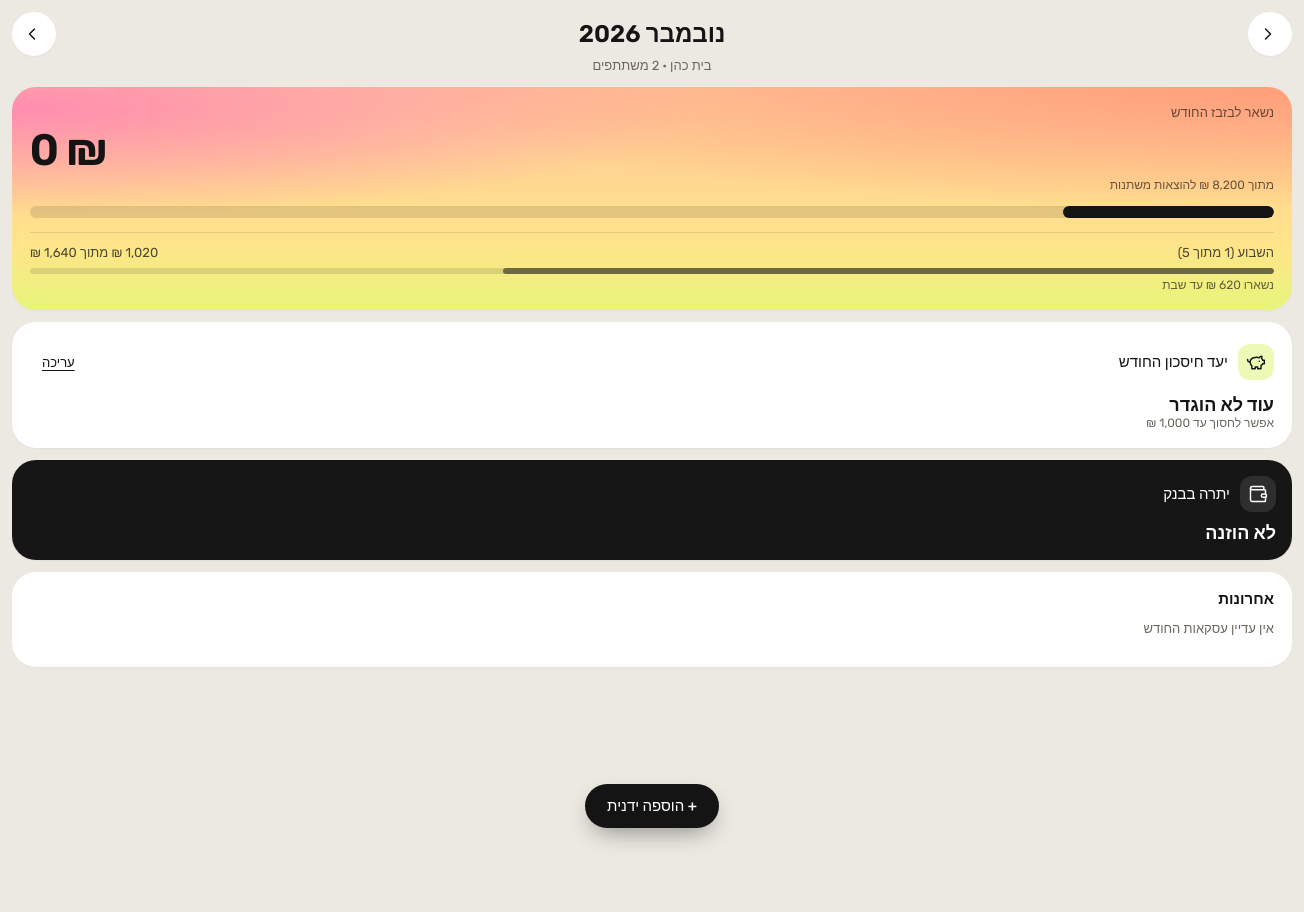
Test case: a savings goal above the most that can be saved is refused
The width and height of the screenshot is (1304, 912).
Click the button with aria-label "עריכת יעד החיסכון" at (58, 362), box [30, 340, 87, 384]
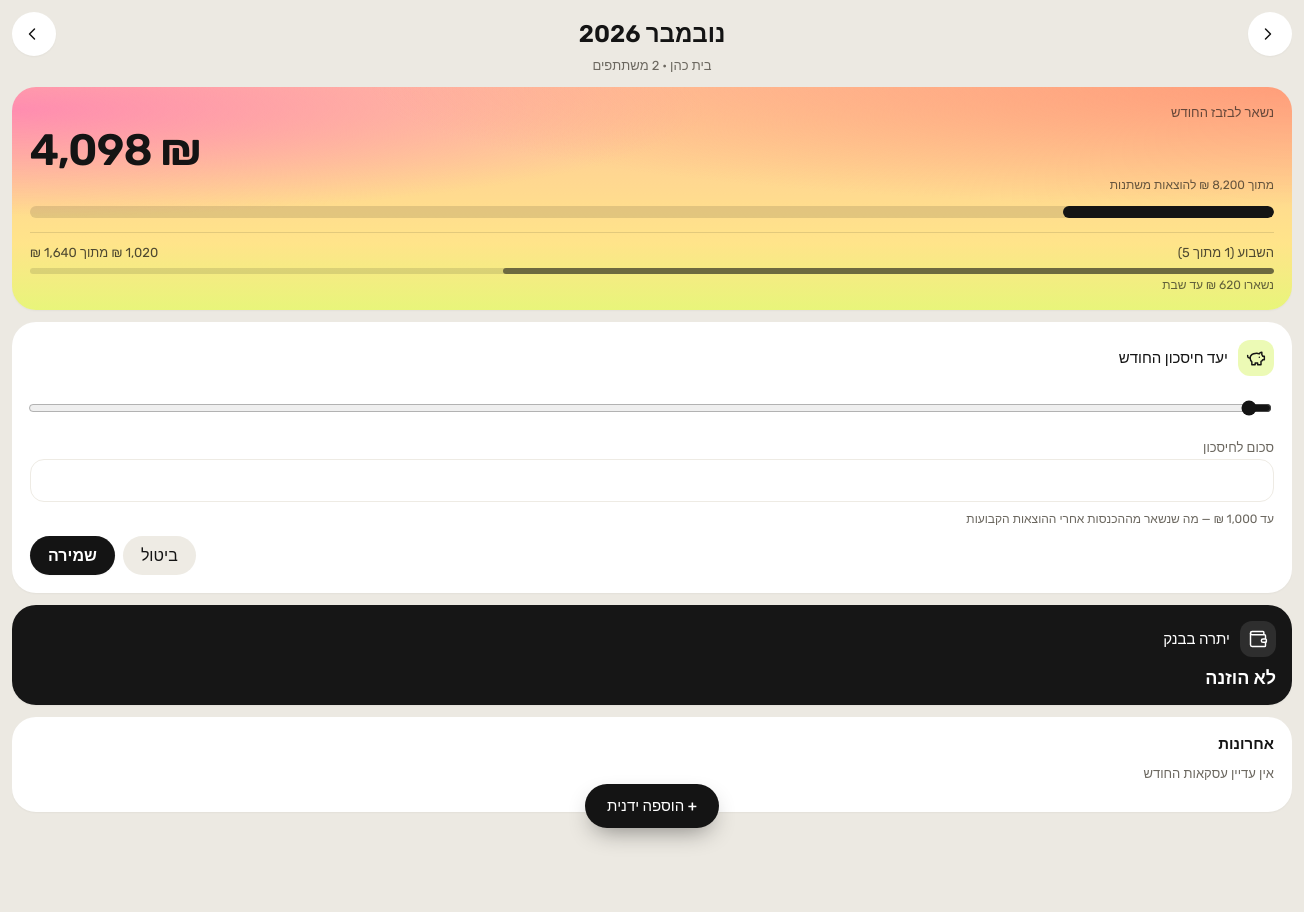
Type "2000" into the field labelled "סכום לחיסכון" at (652, 481), box [30, 459, 1274, 502]
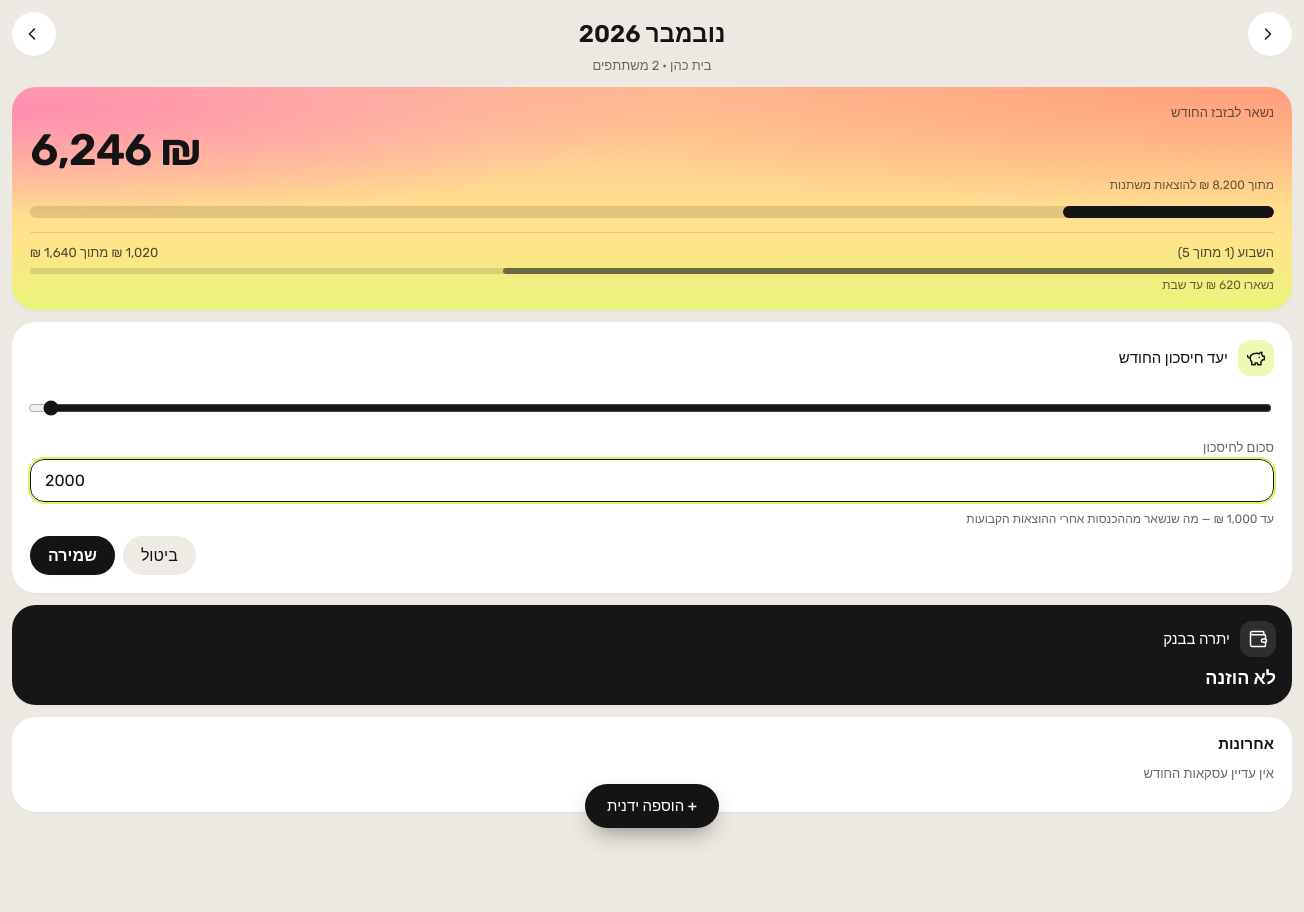
Click the button "שמירה" at (72, 556), box [30, 536, 115, 575]
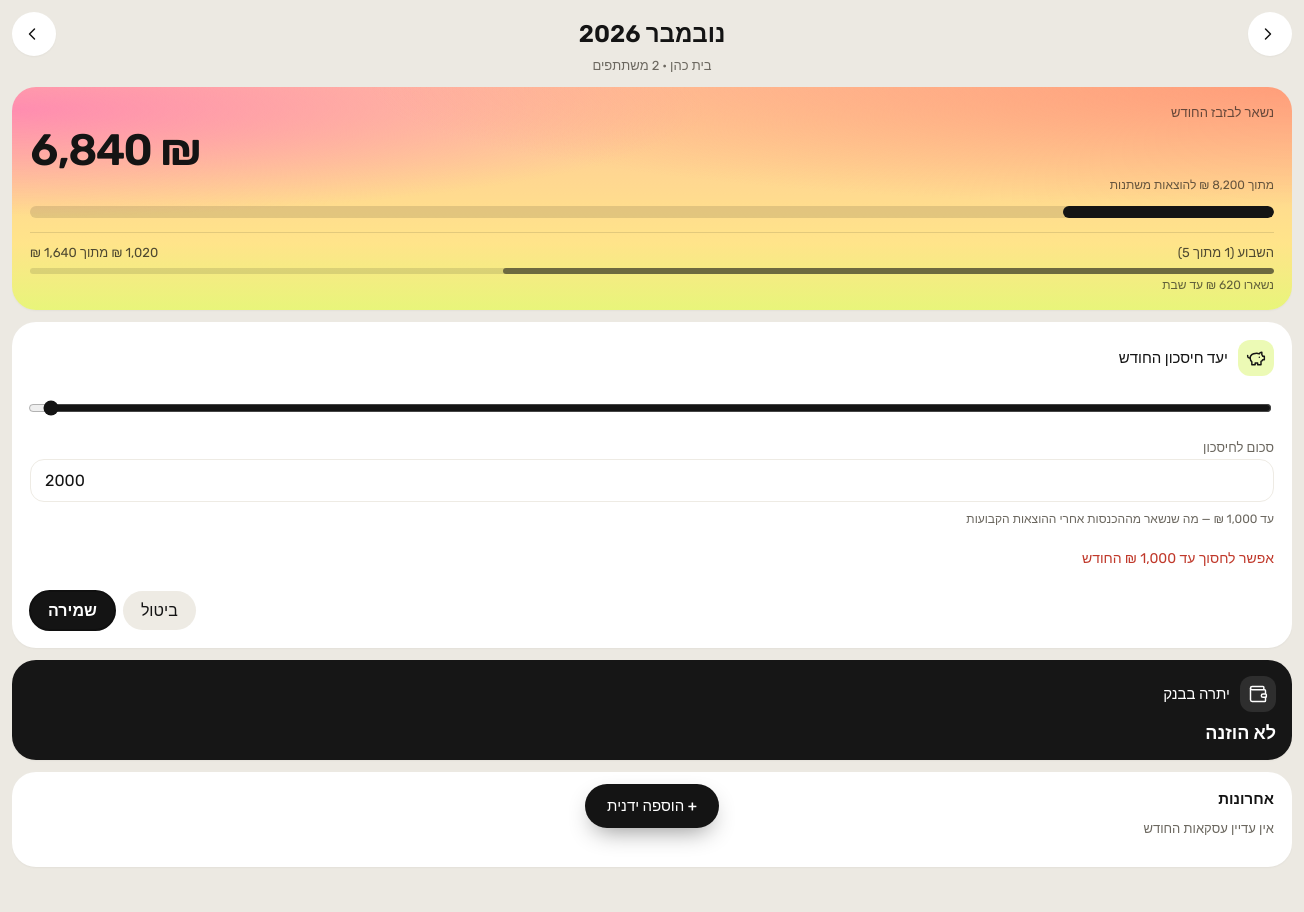
expect the text "אפשר לחסוך עד 1,000 ₪ החודש" is shown: met, box [1082, 550, 1274, 567]
